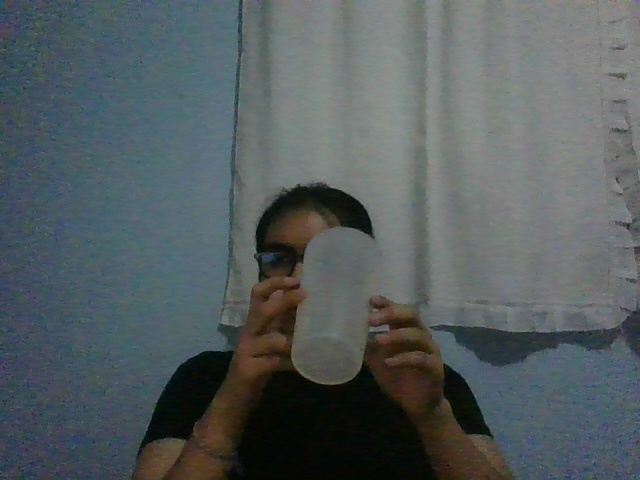vaso: (290, 225, 382, 386)
